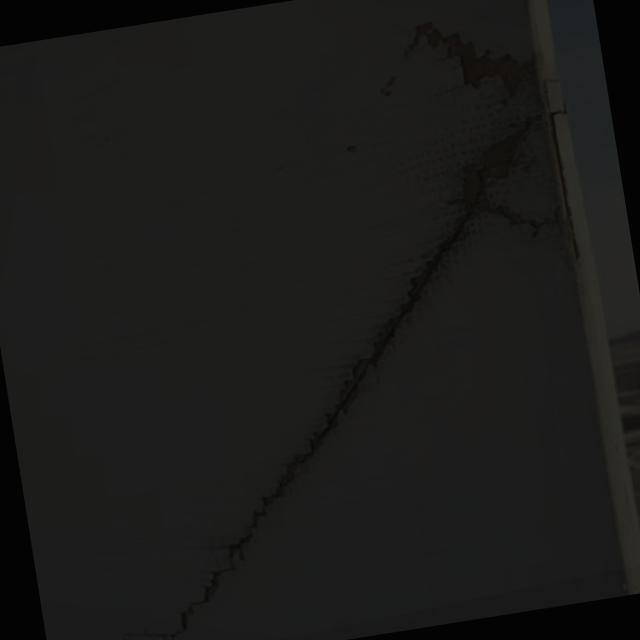corrosion: (406, 5, 529, 117)
crack: (105, 213, 530, 640)
surface_peeling: (452, 112, 554, 210)
